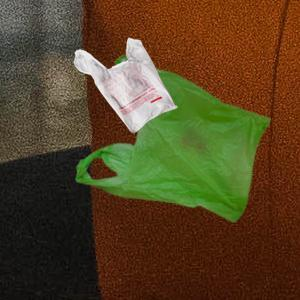plastic_bag: (72, 50, 274, 225), (67, 37, 179, 135)
